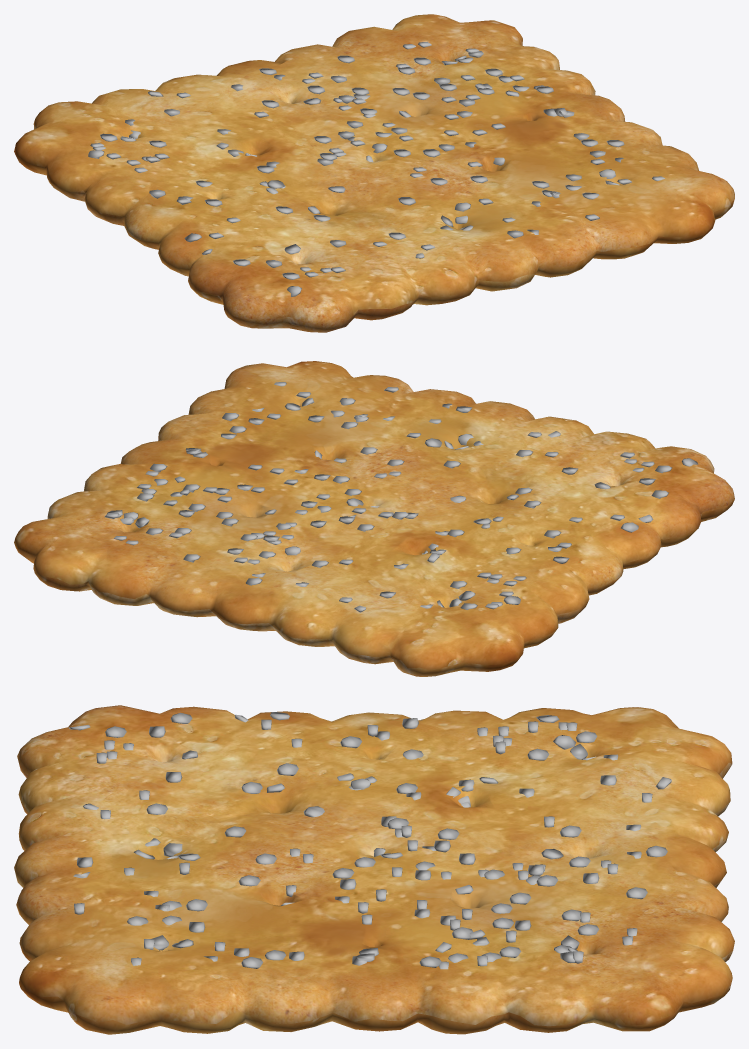
File: biscuit.fbx
3 views of the same model, one above another, from view 1: azimuth 30°, elevation 25°; view 2: azimuth 150°, elevation 25°; view 3: azimuth 270°, elevation 25° (orthographic). The views are drawn at different scales.
Visible parts, largest first — view 1: Fresh_Sugar_Crush_Biscuit; view 2: Fresh_Sugar_Crush_Biscuit; view 3: Fresh_Sugar_Crush_Biscuit.
Part boxes in pixels (x1,y1,x2,y2): Fresh_Sugar_Crush_Biscuit: [14, 14, 734, 332]; Fresh_Sugar_Crush_Biscuit: [14, 361, 734, 676]; Fresh_Sugar_Crush_Biscuit: [14, 705, 734, 1034].
Bounding box in the file's own units: 1194 × 105 × 1186.
